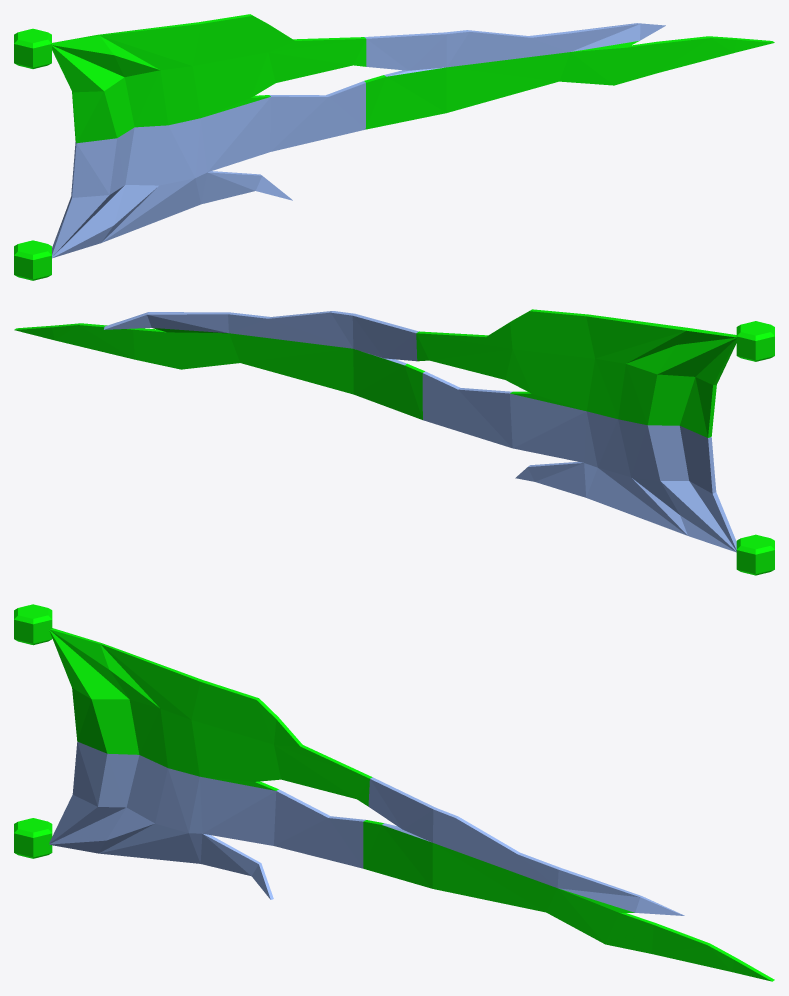
Rendered from SM_Flag_Long_A_Broken_Fantasy.fbx.
3 renders of one model, top to bottom at view 1: azimuth 30°, elevation 25°; view 2: azimuth 150°, elevation 25°; view 3: azimuth 330°, elevation 25°, orthographic.
Parts seen in each view (by area): view 1: flag-long-a-broken-fantasy; view 2: flag-long-a-broken-fantasy; view 3: flag-long-a-broken-fantasy.
Boxes of the visible parts, x1=… form: flag-long-a-broken-fantasy: x1=14, y1=14, x2=774, y2=280; flag-long-a-broken-fantasy: x1=14, y1=309, x2=774, y2=575; flag-long-a-broken-fantasy: x1=14, y1=604, x2=774, y2=981.
Size of the model in its own units: 1.79 by 0.5365 by 0.0895.
